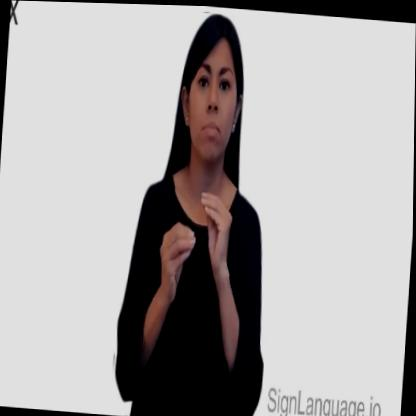Fix: (111, 6, 286, 416)
